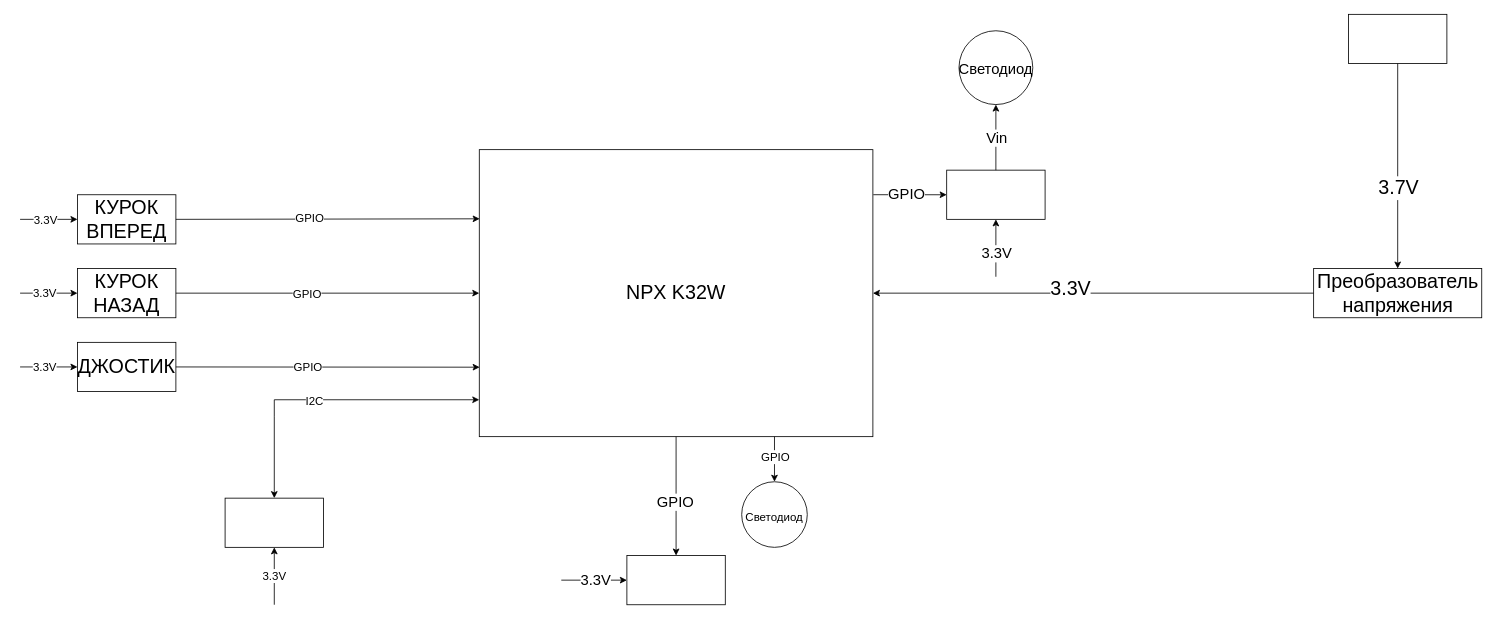
This 1497x626 diagram has some shape labels left out. The shapes that lost their labels are listed below. From the top down, each one's centre as x and y in pixels, then its label:
At point 1397,39: "Li-Ion".
At point 995,194: "АЦП".
At point 675,580: "FS1000A".
